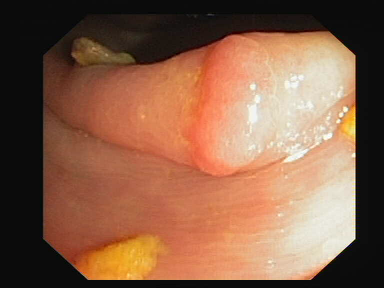polyp: (180, 31, 286, 186), (49, 217, 173, 285), (56, 31, 145, 70), (330, 99, 360, 149)
